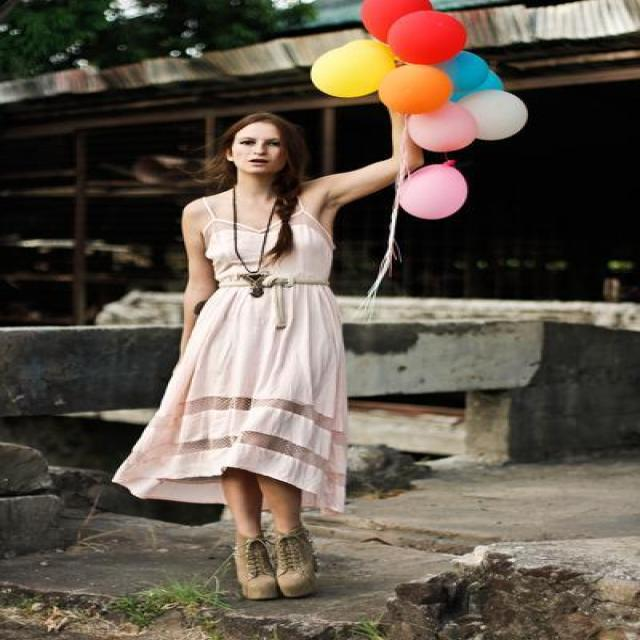dress: (112, 198, 363, 518)
shoe: (232, 525, 325, 597)
